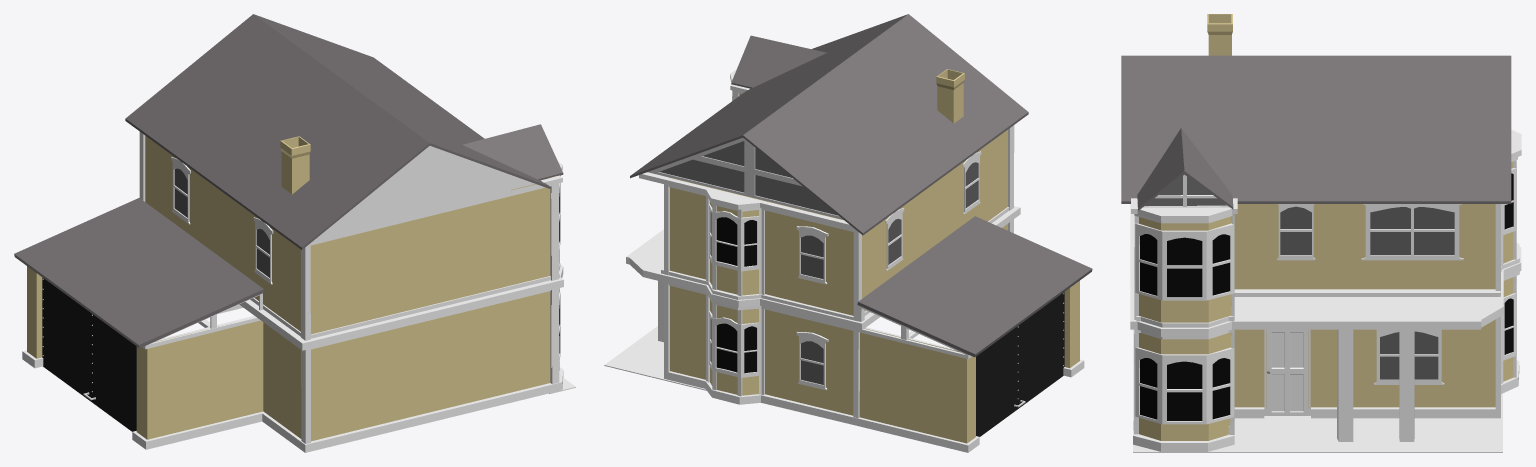
The picture shows the model from 3 angles, left to right: view 1: azimuth 30°, elevation 25°; view 2: azimuth 150°, elevation 25°; view 3: azimuth 270°, elevation 25°; orthographic projection. The views are drawn at different scales.
Visible parts, largest first — view 1: Cube, Cubo, Cubo.009, Cubo.002, Cubo.010, Cubo.014, Cube.001, Cubo.001, Cubo.030, Cubo.032, Cubo.029; view 2: Cube, Cubo, Cubo.009, Cubo.002, Cubo.010, Cube.001, Cubo.012, Cubo.001, Cubo.013, Cubo.038, Cubo.021, Cubo.022 (+9 smaller); view 3: Cubo, Cube, Cube.001, Cubo.002, Cubo.038, Cubo.037, Cubo.034, Cubo.035, Cubo.006, Cubo.033, Cubo.036, Cubo.001 (+9 smaller).
Part boxes in pixels (x1,y1,x2,y2): Cube: (27, 136, 559, 441); Cubo: (125, 14, 550, 249); Cubo.009: (14, 198, 264, 348); Cubo.002: (22, 132, 563, 452); Cubo.010: (42, 277, 136, 431); Cubo.014: (318, 146, 535, 236); Cube.001: (239, 161, 563, 350); Cubo.001: (462, 124, 563, 180); Cubo.030: (171, 157, 190, 224); Cubo.032: (256, 228, 269, 277); Cubo.029: (174, 168, 187, 217); Cube: (669, 69, 1079, 443); Cubo: (630, 14, 1028, 235); Cubo.009: (857, 216, 1092, 357); Cubo.002: (661, 90, 1084, 452); Cubo.010: (976, 292, 1064, 436); Cube.001: (626, 69, 1020, 342); Cubo.012: (659, 141, 837, 215); Cubo.001: (731, 35, 826, 88); Cubo.013: (647, 137, 843, 219); Cubo.038: (604, 326, 706, 390); Cubo.021: (710, 318, 756, 373); Cubo.022: (710, 211, 756, 266); Cubo: (1121, 55, 1511, 203); Cube: (1137, 14, 1513, 440); Cube.001: (1130, 129, 1521, 441); Cubo.002: (1133, 157, 1519, 451); Cubo.038: (1133, 393, 1502, 452); Cubo.037: (1264, 329, 1310, 415); Cubo.034: (1140, 234, 1229, 297); Cubo.035: (1140, 358, 1229, 420); Cubo.006: (1370, 207, 1454, 254); Cubo.033: (1135, 223, 1234, 300); Cubo.036: (1135, 347, 1234, 424); Cubo.001: (1137, 128, 1233, 210).
Size of the model in its own units: 17.41 by 12.03 by 13.84.
